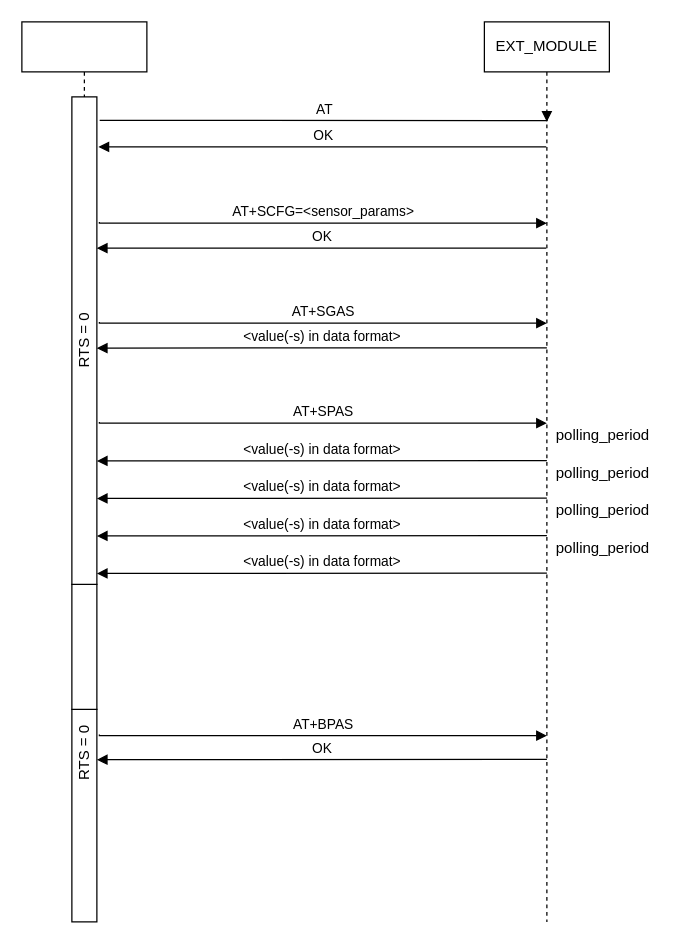
The diagram is 681 pixels wide and 944 high, and some of its shapes have lost their labels. Here are the shapes that lost their labels. From the top down, the centre of each, then its label:
At (x=84, y=59): "MASTER".
At (x=84, y=646): "RTS = 1".
